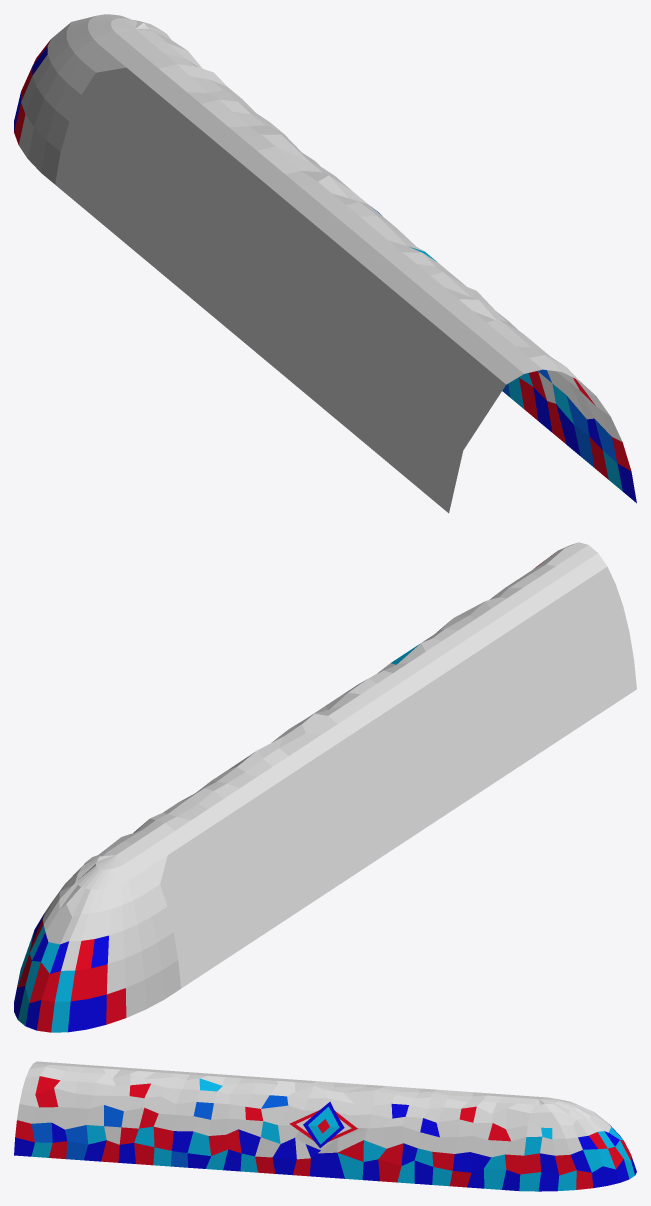
File: ParteAlargadaBajoFinal3.fbx
3 views of the same model, one above another, from view 1: azimuth 30°, elevation 25°; view 2: azimuth 150°, elevation 25°; view 3: azimuth 270°, elevation 25° (orthographic). The views are drawn at different scales.
Parts seen in each view (by area): view 1: Sphere; view 2: Sphere; view 3: Sphere.
Part boxes in pixels (left/top/right/bottom): Sphere: left=14, top=14, right=636, bottom=513; Sphere: left=14, top=542, right=636, bottom=1032; Sphere: left=14, top=1061, right=636, bottom=1191.
Bounding box in the file's own units: 136 × 97.86 × 614.
